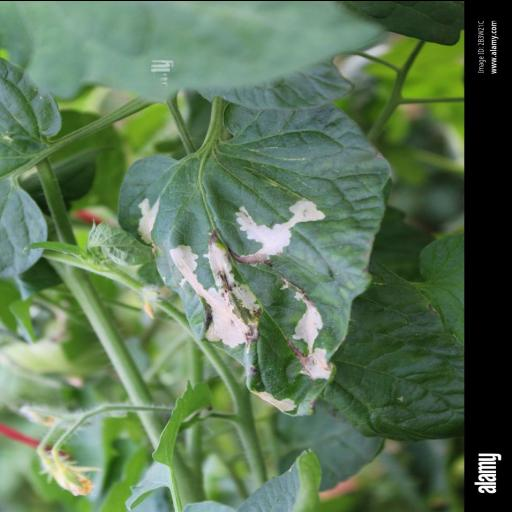disease_tomato: (114, 104, 392, 422)
